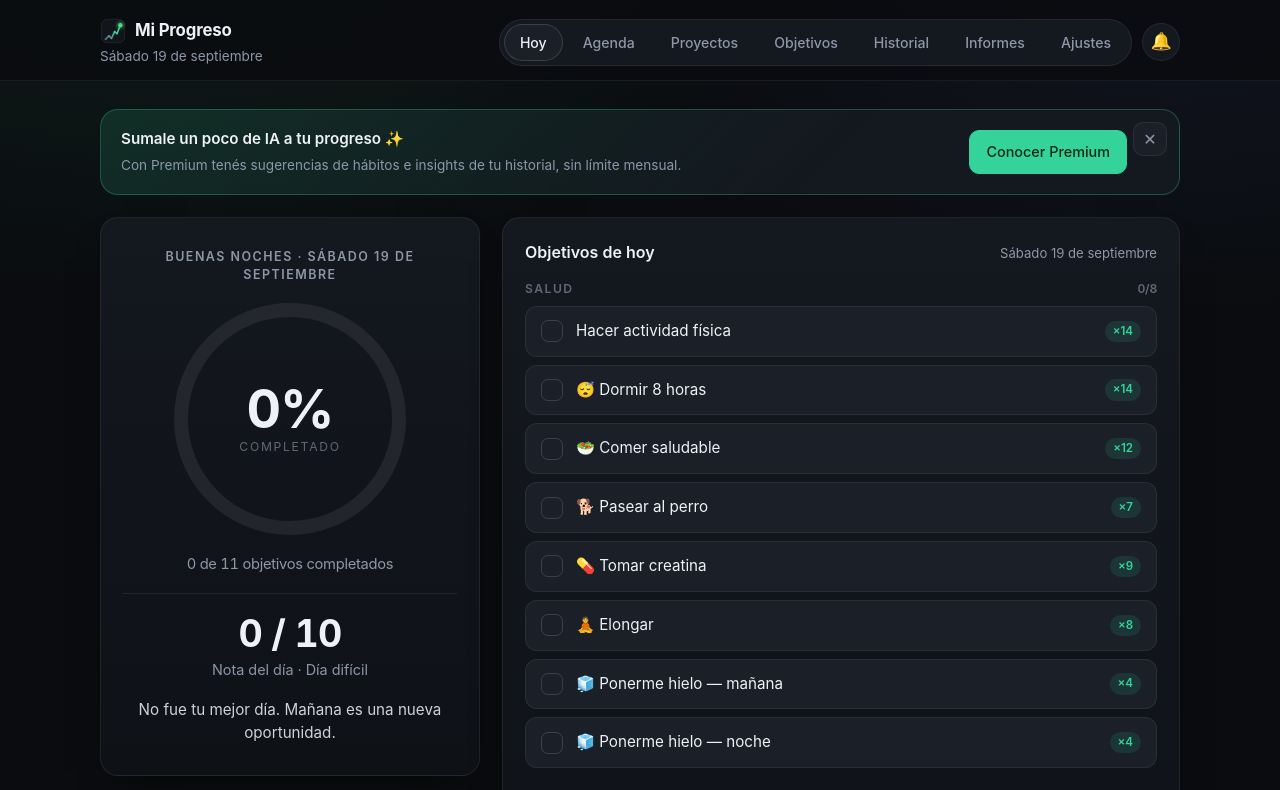
Test case: Revisión mensual guiada › muestra la sub-nav de Informes con Resumen y Revisión mensual
Expected: the heading "Objetivos de hoy" is shown, [525, 240, 655, 264]
Step 1. Click the button "Informes" → click(995, 42), box [949, 24, 1041, 61]
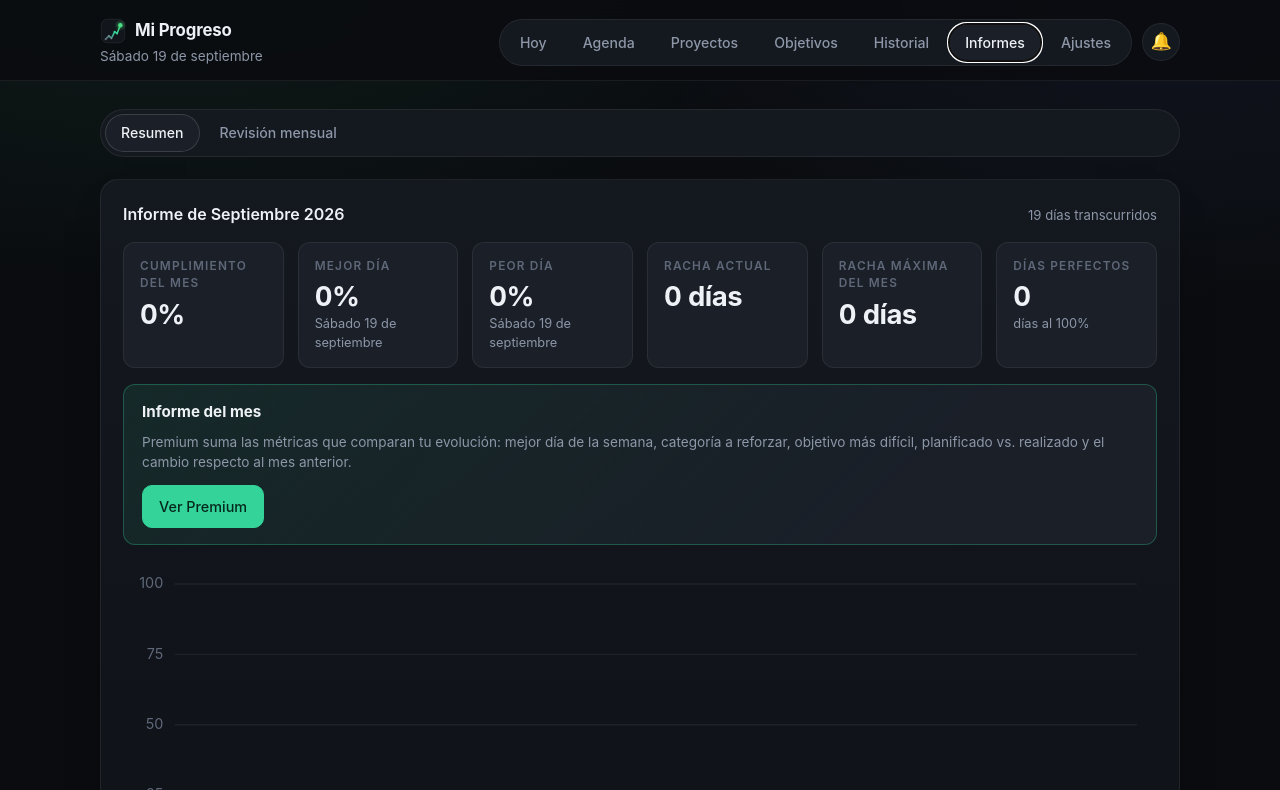
Result: the button "Informes" is marked as current at [949, 24, 1041, 61]
Step 2. Click the button "Revisión mensual" → click(278, 133), box [204, 114, 353, 152]
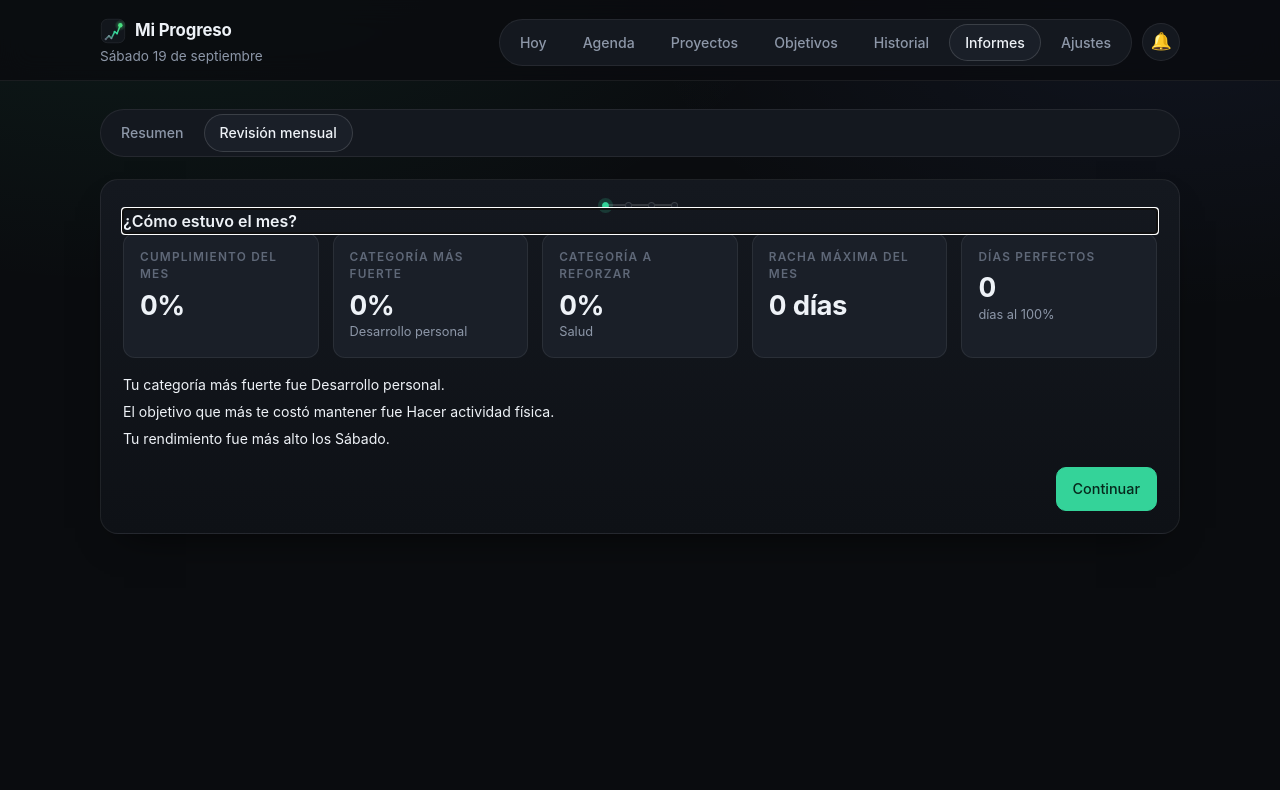
Result: the heading "¿Cómo estuvo el mes?" is shown at [123, 210, 297, 230]
